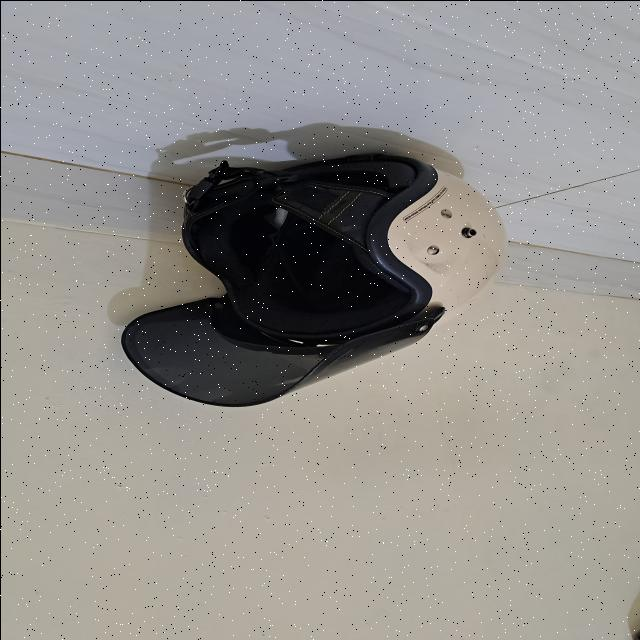Helmet: (119, 152, 507, 406)
